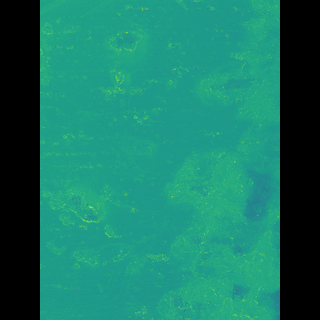Loch: (151, 0, 250, 320), (75, 173, 148, 277)
